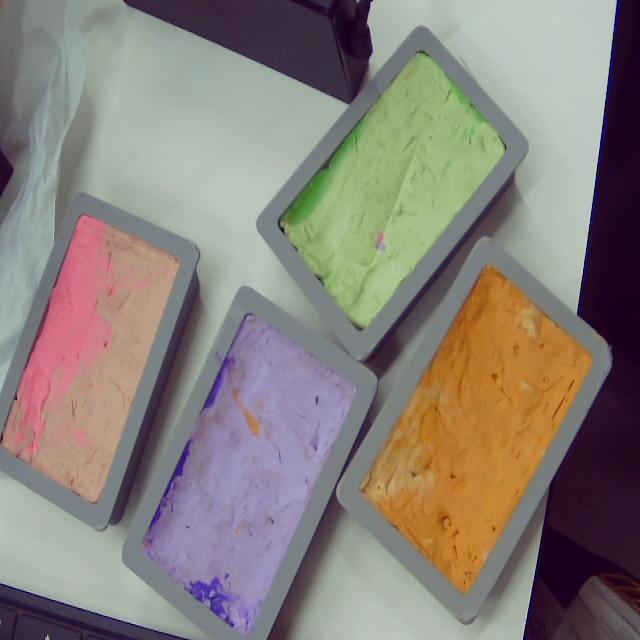block: (333, 237, 611, 631), (258, 25, 530, 363), (121, 284, 375, 640), (0, 190, 201, 532)
